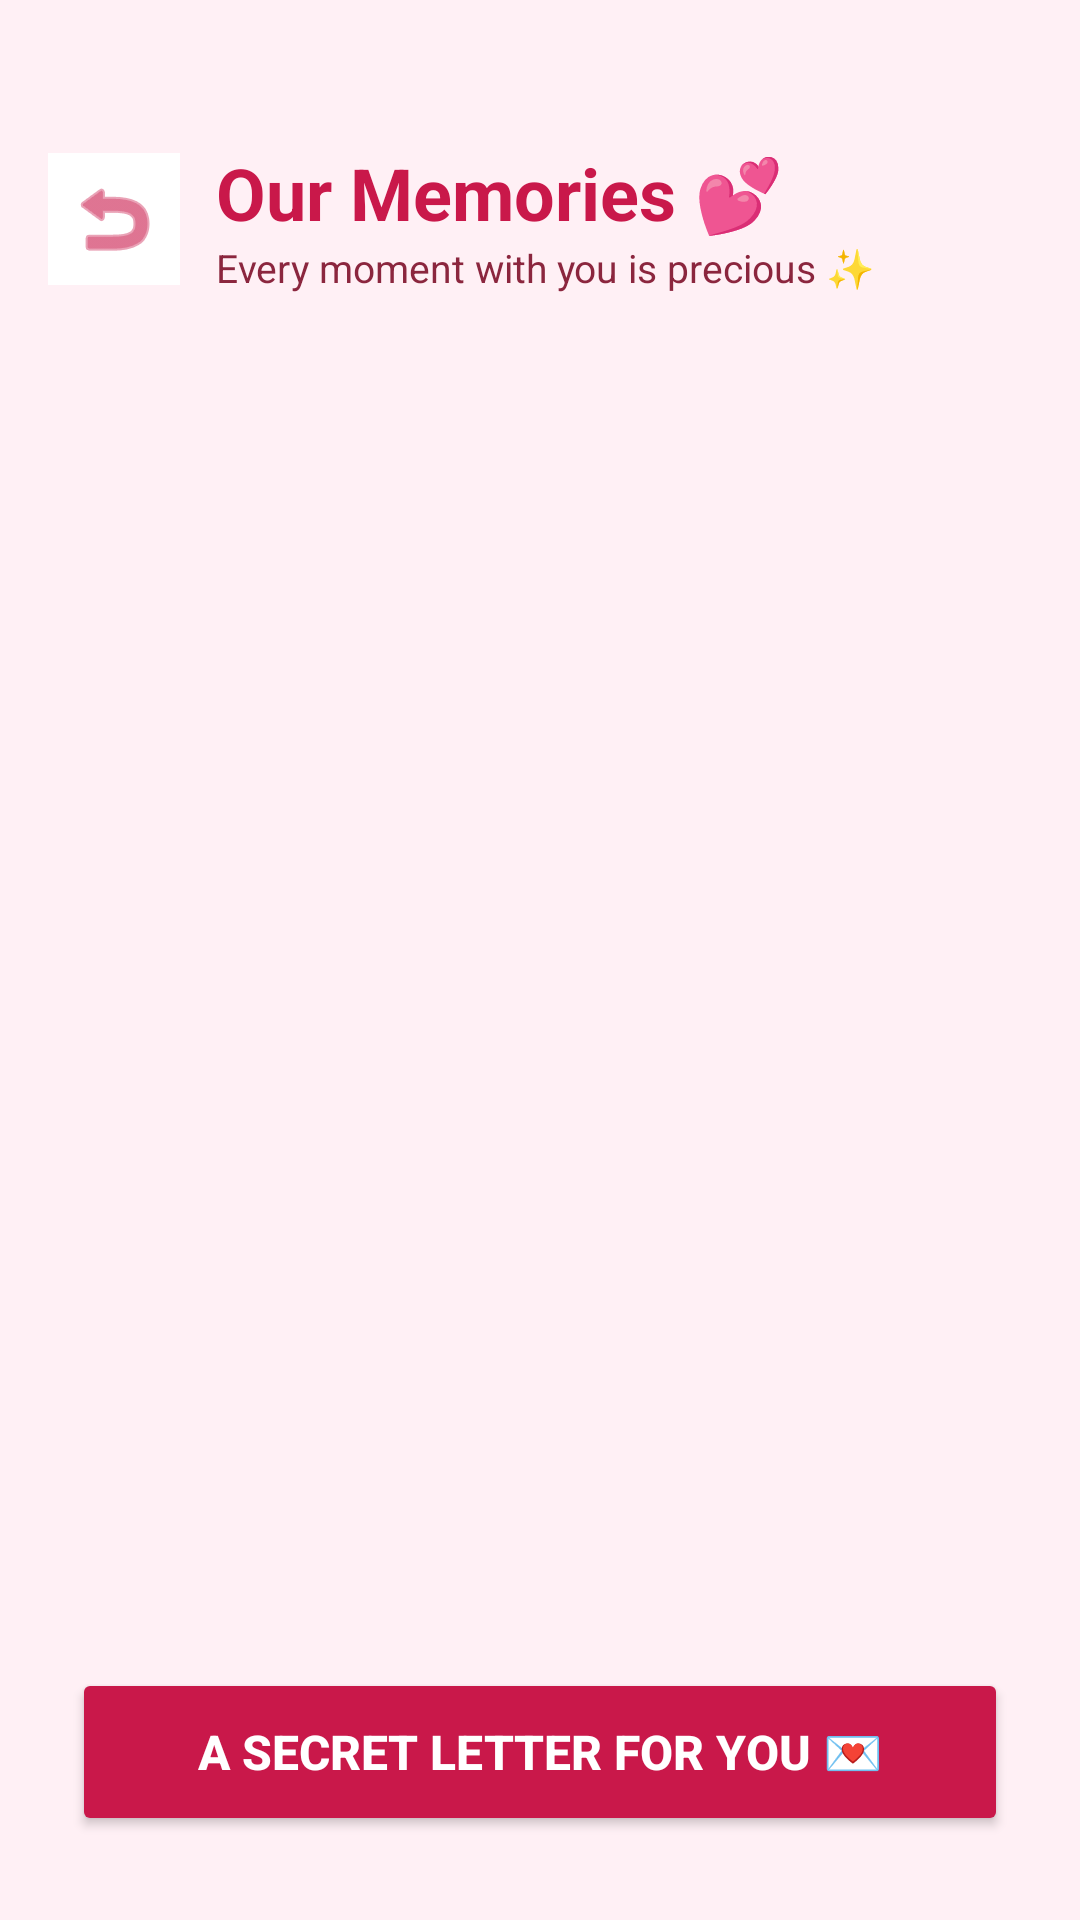

Point at icon controls on the screen. Image size 1080px×1920px, points as [x,y].
Back: [115,220]
